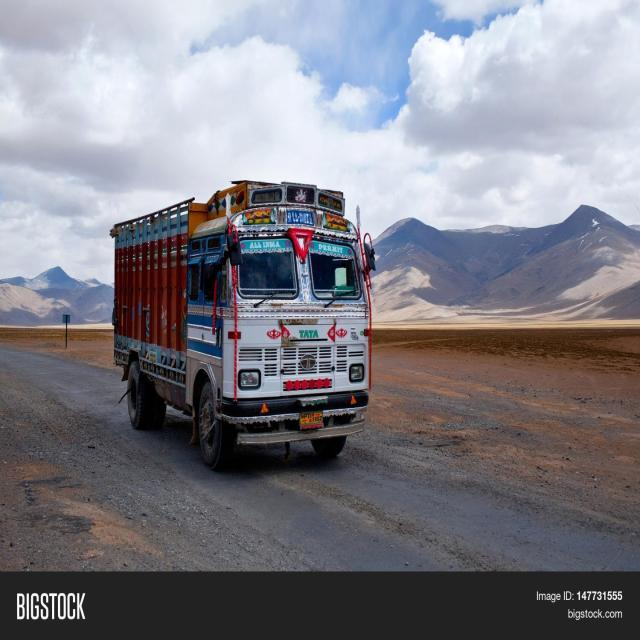truck: (111, 181, 375, 469)
